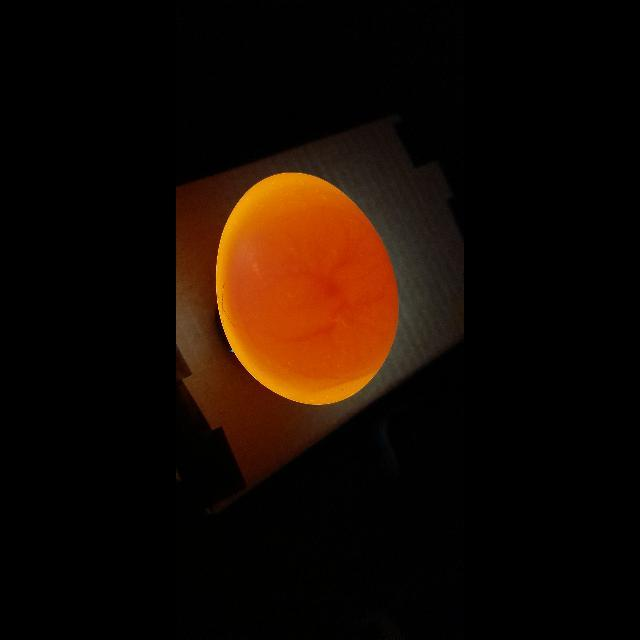Fertile: (223, 166, 401, 400)
